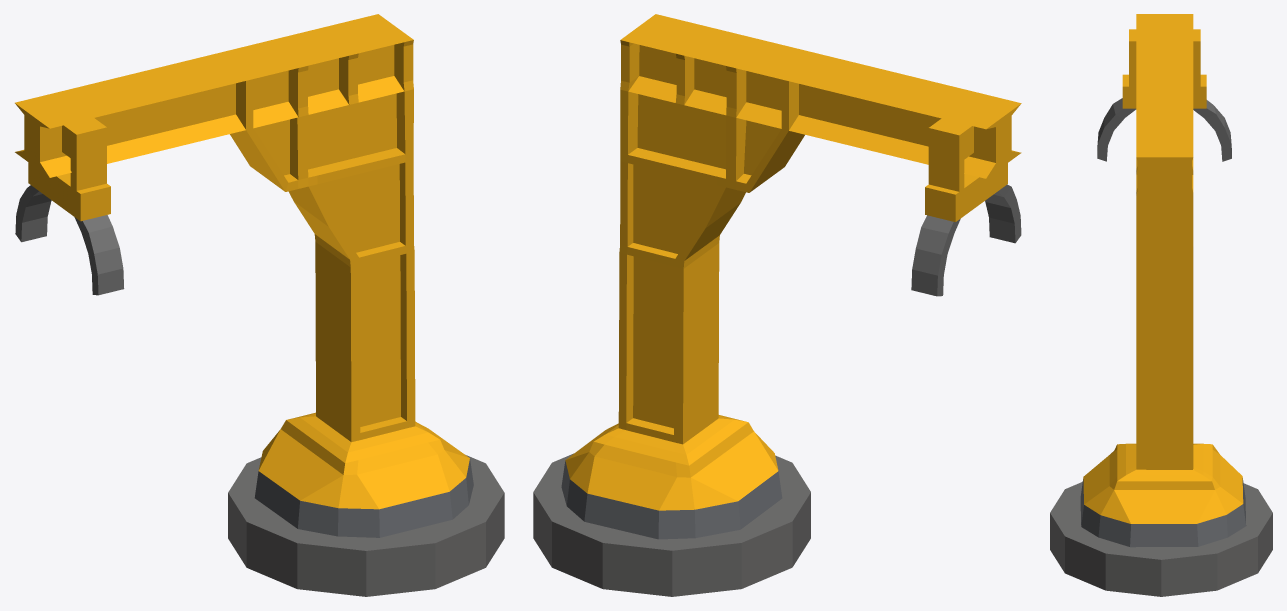
File: Crane.fbx
The picture shows the model from 3 angles, left to right: view 1: azimuth 30°, elevation 25°; view 2: azimuth 150°, elevation 25°; view 3: azimuth 270°, elevation 25°; orthographic projection. The views are drawn at different scales.
Parts seen in each view (by area): view 1: Cylinder, Cylinder.001, Cube.003, Cube.001, Cube.002, Cube; view 2: Cylinder, Cylinder.001, Cube.003, Cube, Cube.002, Cube.001; view 3: Cylinder, Cylinder.001, Cube.001, Cube.003, Cube, Cube.002.
Boxes of the visible parts, x1=… form: Cylinder: x1=15, y1=14, x2=473, y2=537; Cylinder.001: x1=228, y1=455, x2=504, y2=596; Cube.003: x1=62, y1=118, x2=106, y2=190; Cube.001: x1=74, y1=215, x2=124, y2=295; Cube.002: x1=28, y1=162, x2=110, y2=221; Cube: x1=15, y1=185, x2=51, y2=242; Cylinder: x1=561, y1=14, x2=1021, y2=539; Cylinder.001: x1=533, y1=453, x2=810, y2=596; Cube.003: x1=928, y1=118, x2=973, y2=191; Cube: x1=911, y1=215, x2=960, y2=296; Cube.002: x1=925, y1=163, x2=1007, y2=221; Cube.001: x1=985, y1=184, x2=1021, y2=243; Cylinder: x1=1080, y1=14, x2=1246, y2=547; Cylinder.001: x1=1050, y1=482, x2=1272, y2=596; Cube.001: x1=1097, y1=98, x2=1136, y2=161; Cube.003: x1=1129, y1=29, x2=1200, y2=86; Cube: x1=1193, y1=100, x2=1231, y2=161; Cube.002: x1=1122, y1=74, x2=1206, y2=108.
Size of the model in its own units: 542 by 576 by 287.
